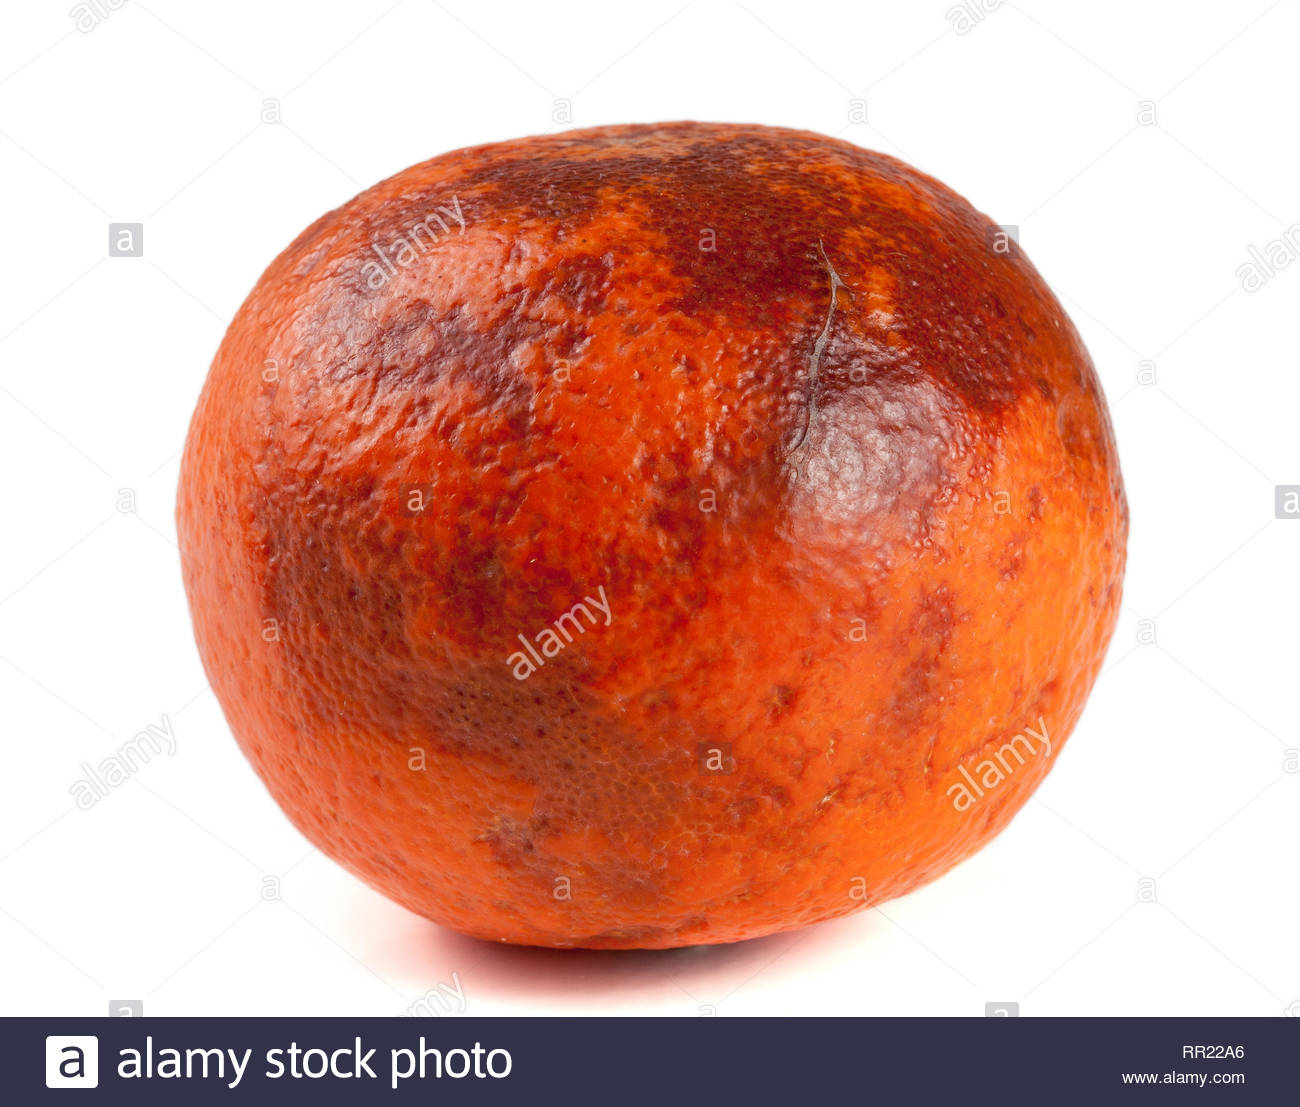damaged_grapefruit: (210, 163, 1092, 917)
